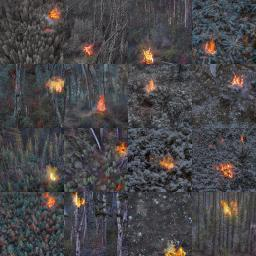Small fire: (219, 69, 256, 96), (43, 70, 72, 103), (40, 155, 65, 192), (215, 195, 248, 223), (211, 157, 243, 184), (87, 92, 119, 118), (42, 3, 65, 39), (155, 147, 181, 178), (155, 238, 194, 256), (74, 38, 103, 61), (112, 131, 135, 160), (131, 45, 164, 65), (68, 190, 91, 212), (140, 78, 163, 99), (201, 35, 220, 59), (41, 193, 59, 213)
